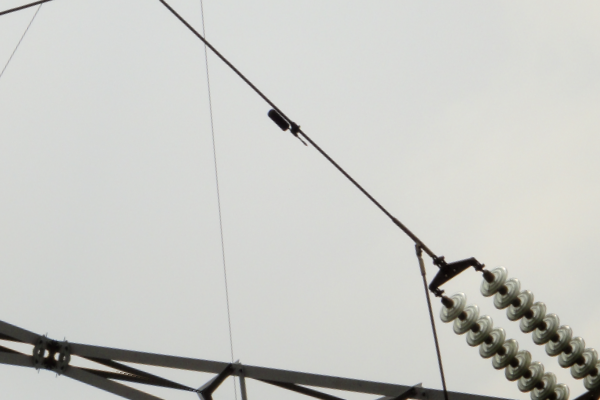damper_defect: (265, 107, 310, 148)
